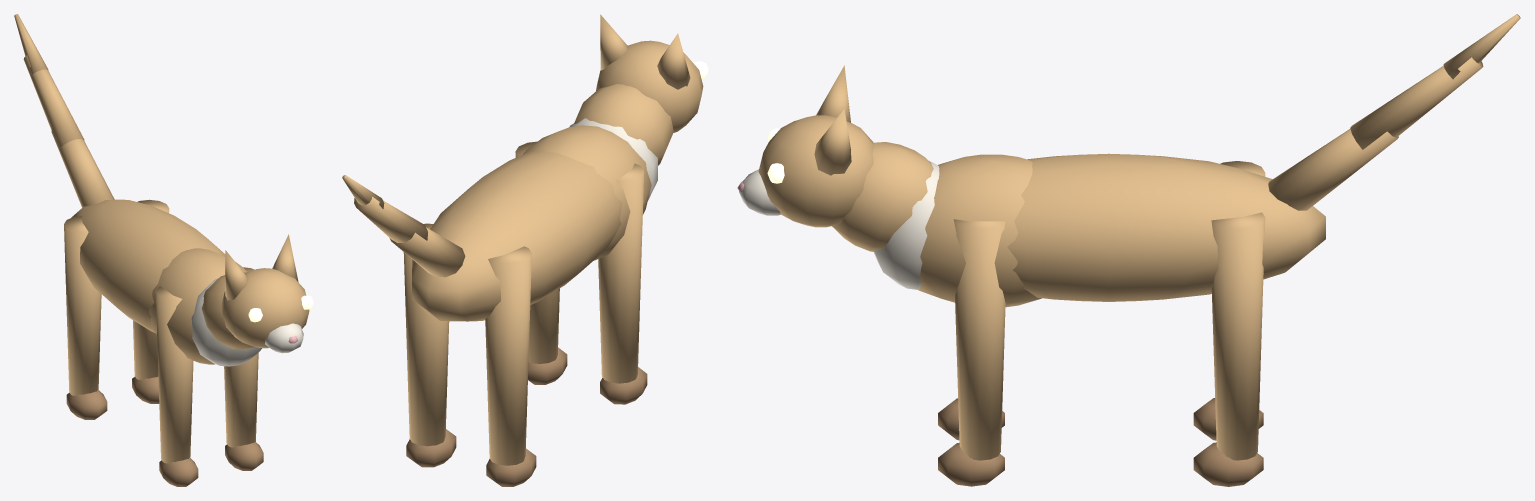
File: animal_cat.glb
The picture shows the model from 3 angles, left to right: view 1: azimuth 30°, elevation 25°; view 2: azimuth 150°, elevation 25°; view 3: azimuth 270°, elevation 25°; orthographic projection. The views are drawn at different scales.
Parts seen in each view (by area): view 1: animal_cat_body, animal_cat_leg_BL, animal_cat_leg_FL, animal_cat_head, animal_cat_chest, animal_cat_leg_FR, animal_cat_tail0, animal_cat_tail1, animal_cat_ruff, animal_cat_leg_BR, animal_cat_neck, animal_cat_paw_BL (+7 smaller); view 2: animal_cat_body, animal_cat_leg_BL, animal_cat_leg_FL, animal_cat_leg_BR, animal_cat_chest, animal_cat_head, animal_cat_neck, animal_cat_leg_FR, animal_cat_tail0, animal_cat_tail1, animal_cat_ear_L, animal_cat_paw_BR (+6 smaller); view 3: animal_cat_body, animal_cat_leg_BR, animal_cat_leg_FR, animal_cat_chest, animal_cat_head, animal_cat_neck, animal_cat_tail0, animal_cat_tail1, animal_cat_ruff, animal_cat_paw_BR, animal_cat_paw_FR, animal_cat_ear_R (+3 smaller).
Part boxes in pixels (box(x1,y1,x2,y2)): animal_cat_body: box(71, 199, 225, 332); animal_cat_leg_BL: box(64, 216, 101, 395); animal_cat_leg_FL: box(155, 286, 193, 463); animal_cat_head: box(221, 268, 309, 348); animal_cat_chest: box(149, 248, 246, 364); animal_cat_leg_FR: box(224, 267, 258, 447); animal_cat_tail0: box(51, 129, 114, 207); animal_cat_tail1: box(23, 55, 84, 147); animal_cat_ruff: box(191, 278, 262, 366); animal_cat_leg_BR: box(133, 199, 169, 379); animal_cat_neck: box(201, 272, 255, 348); animal_cat_paw_BL: box(66, 390, 107, 419); animal_cat_body: box(412, 151, 622, 321); animal_cat_leg_BL: box(485, 246, 531, 465); animal_cat_leg_FL: box(598, 163, 644, 383); animal_cat_leg_BR: box(403, 223, 449, 446); animal_cat_chest: box(523, 125, 651, 260); animal_cat_head: box(596, 40, 703, 132); animal_cat_neck: box(574, 84, 673, 165); animal_cat_leg_FR: box(515, 141, 559, 363); animal_cat_tail0: box(389, 227, 465, 277); animal_cat_tail1: box(354, 196, 427, 242); animal_cat_ear_L: box(657, 33, 690, 89); animal_cat_paw_BR: box(406, 429, 456, 467); animal_cat_body: box(1007, 153, 1325, 301); animal_cat_leg_BR: box(1211, 212, 1265, 460); animal_cat_leg_FR: box(953, 219, 1005, 460); animal_cat_chest: box(918, 154, 1041, 307); animal_cat_head: box(758, 115, 874, 227); animal_cat_neck: box(832, 142, 933, 252); animal_cat_tail0: box(1268, 128, 1398, 210); animal_cat_tail1: box(1350, 57, 1483, 149); animal_cat_ruff: box(874, 161, 939, 289); animal_cat_paw_BR: box(1193, 442, 1263, 486); animal_cat_paw_FR: box(938, 442, 1004, 486); animal_cat_ear_R: box(814, 109, 851, 175).
Bounding box in the file's own units: 0.2265 × 0.6719 × 1.07.
